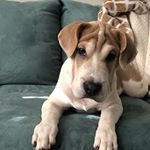puppy: (40, 16, 130, 150)
